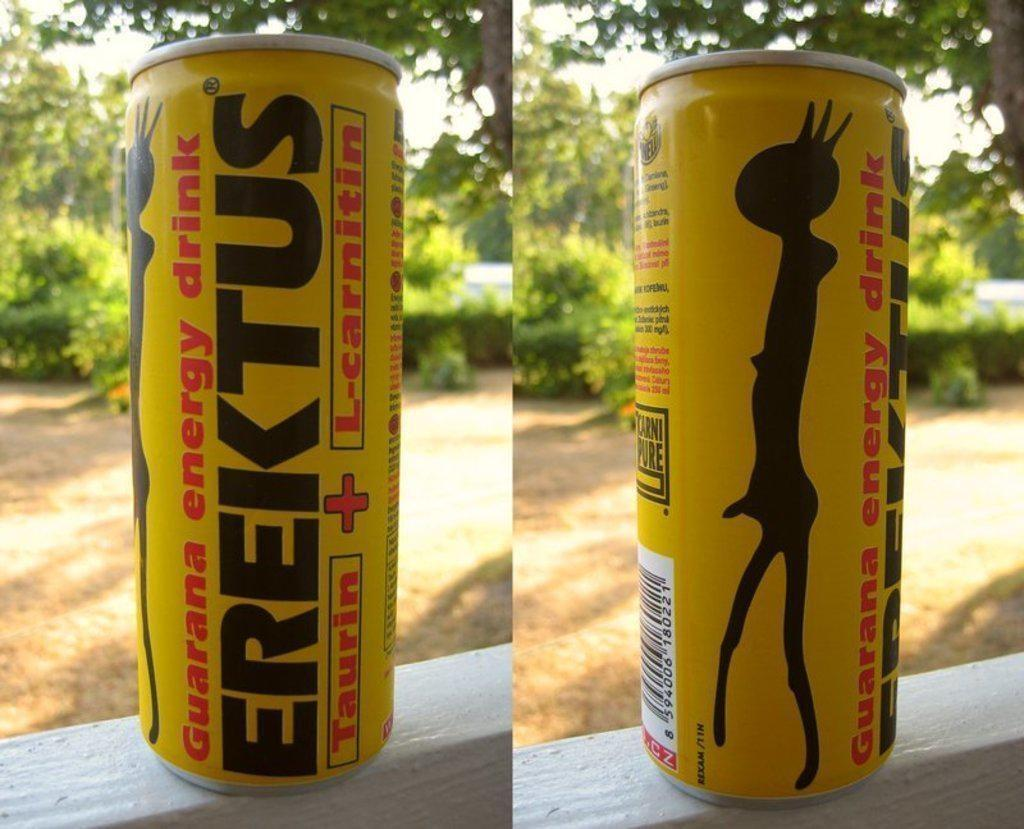tin can: (630, 44, 917, 808), (124, 27, 406, 802)
